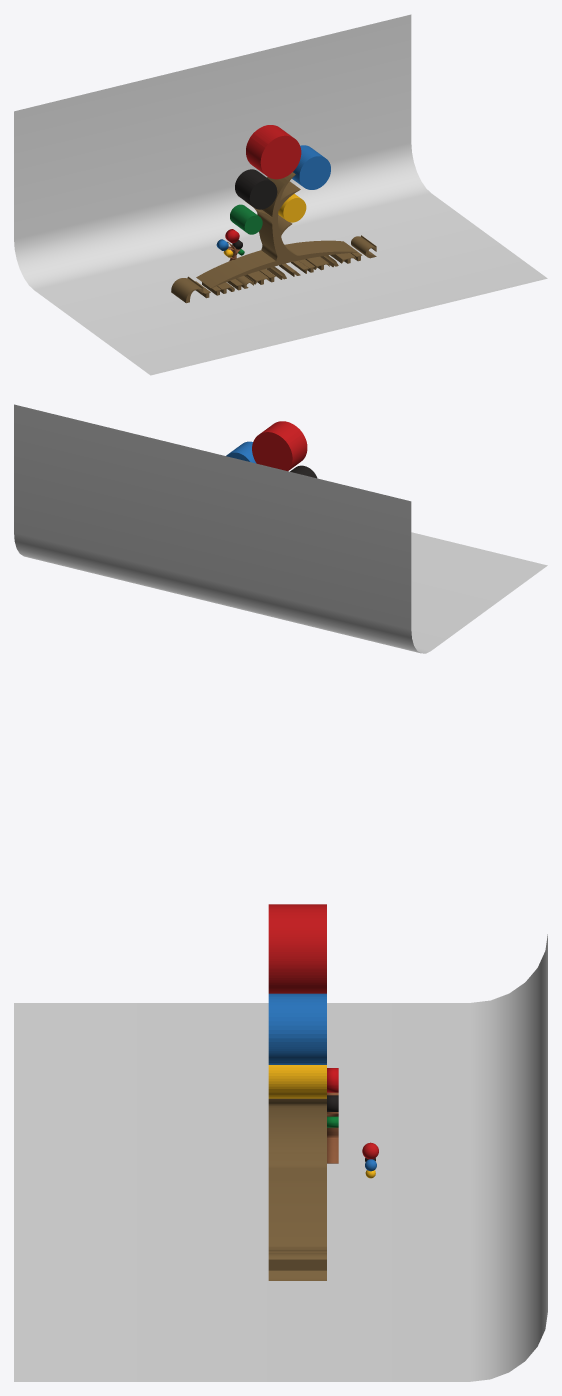
Rendered from arvore-sem-escrita-tronco-fundo-infinito.glb.
3 renders of one model, top to bottom at view 1: azimuth 30°, elevation 25°; view 2: azimuth 150°, elevation 25°; view 3: azimuth 270°, elevation 25°, orthographic. The views are drawn at different scales.
Parts seen in each view (by area): view 1: Plane, Curve, arvoresemescrita; view 2: Plane, Curve; view 3: Plane, Curve, arvoresemescrita.
Boxes of the visible parts, bbox=[...] form: Plane: bbox=[14, 14, 547, 375]; Curve: bbox=[171, 125, 376, 303]; arvoresemescrita: bbox=[216, 229, 244, 260]; Plane: bbox=[14, 404, 547, 653]; Curve: bbox=[226, 421, 317, 478]; Plane: bbox=[14, 934, 547, 1381]; Curve: bbox=[268, 904, 326, 1280]; arvoresemescrita: bbox=[327, 1068, 338, 1163].
Bounding box in the file's own units: 39.17 × 16.39 × 23.33.
